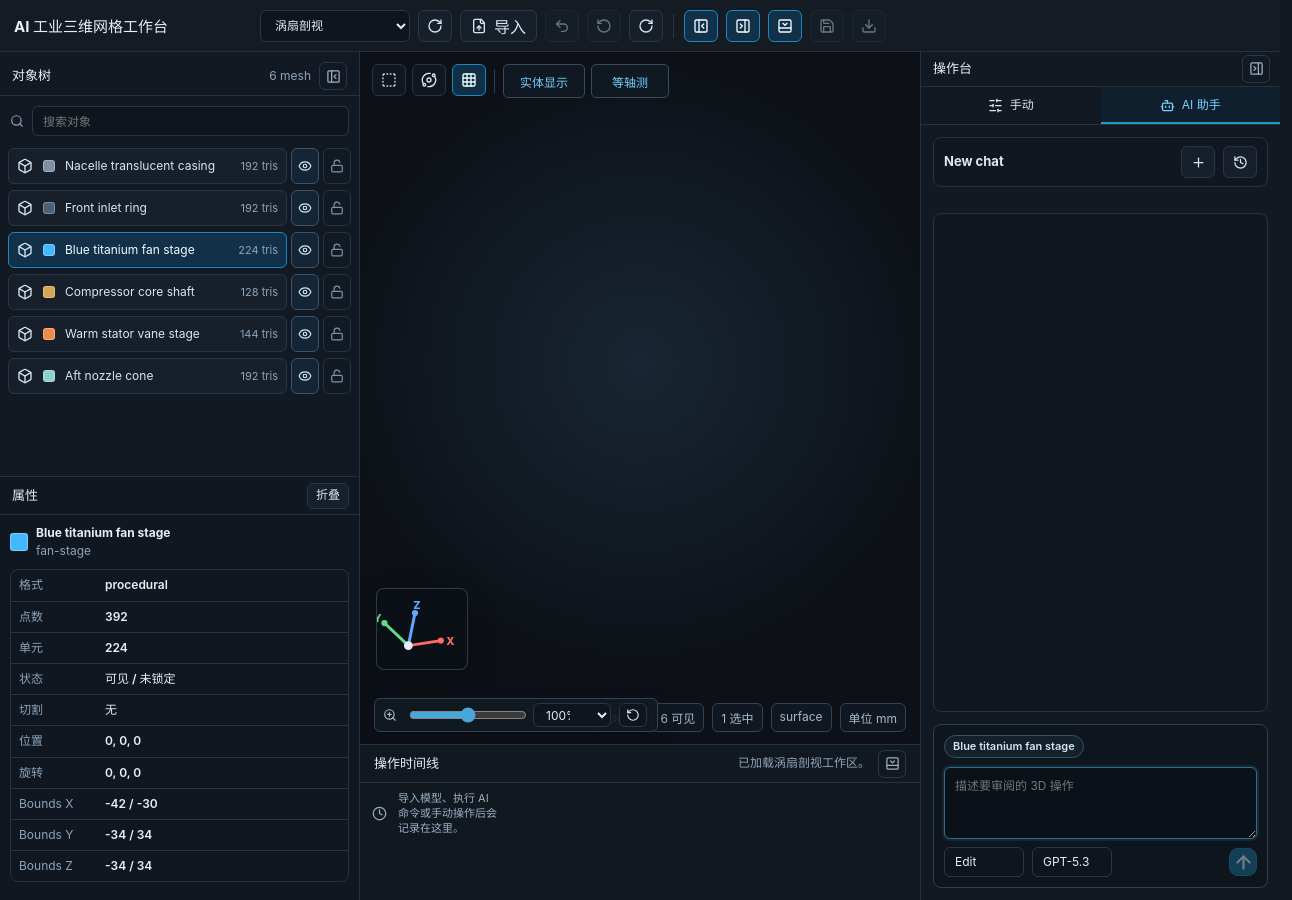
App agent draft previews › previews agent rotate drafts in the viewer before confirmation
Type "把当前对象绕 Z 轴旋转 90 度" into the text box named "AI 指令输入" at (1100, 803), box top-left (944, 767), bottom-right (1257, 839)
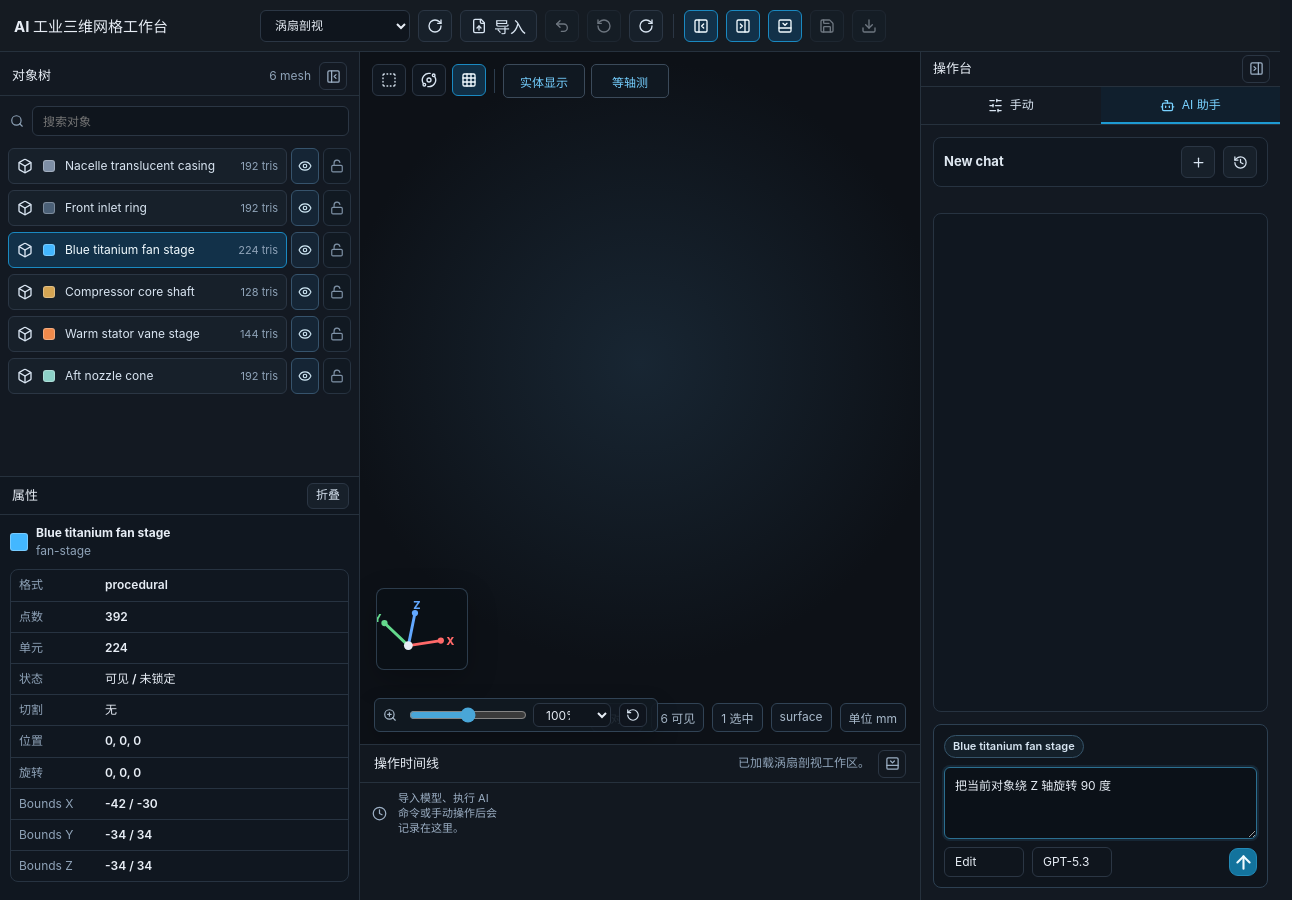
Click the button named "发送指令" at (1243, 862), box top-left (1229, 848), bottom-right (1257, 876)
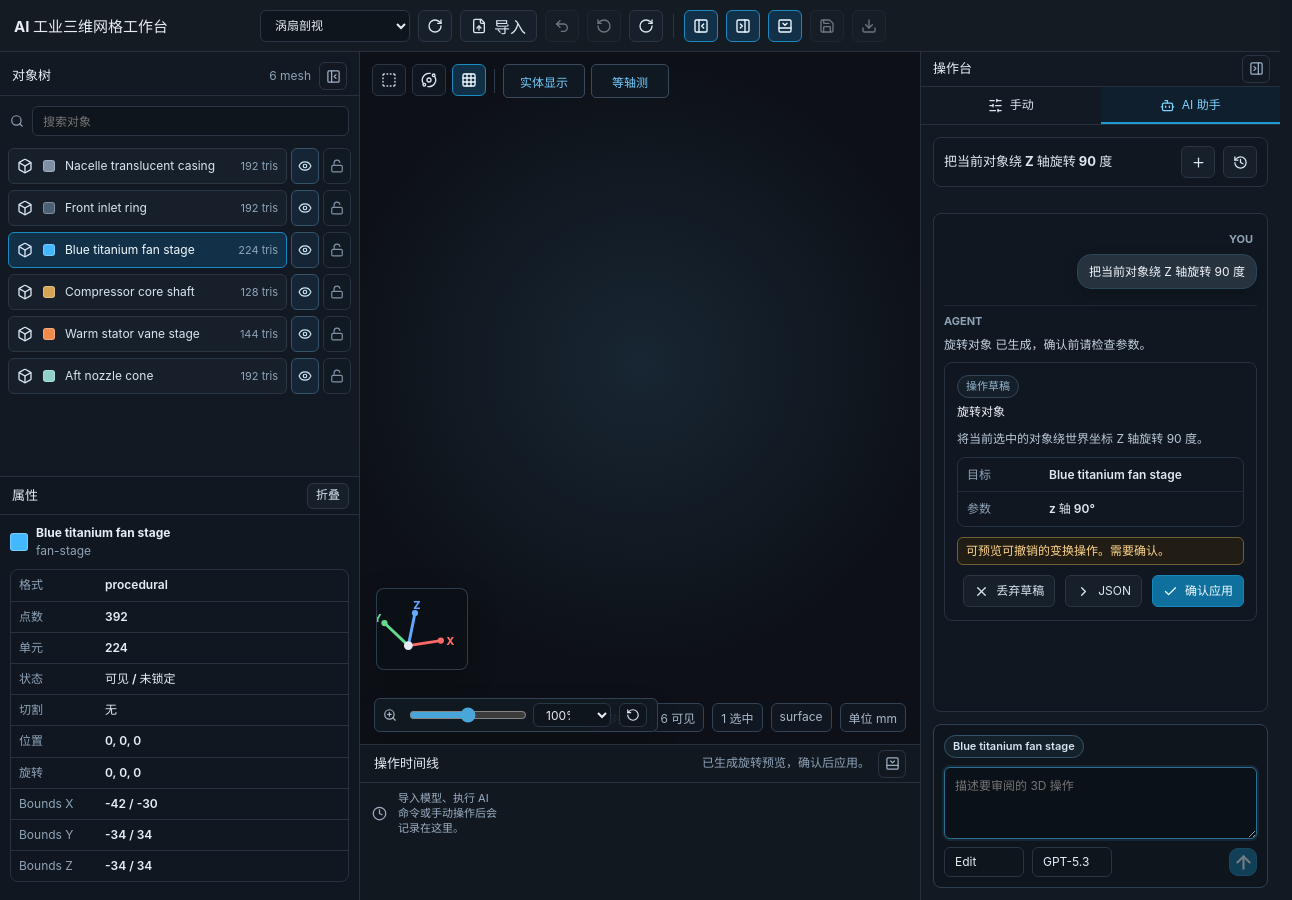
Now the button "确认应用" is shown
Click the button "确认应用" at (1198, 591), box top-left (1152, 575), bottom-right (1244, 607)
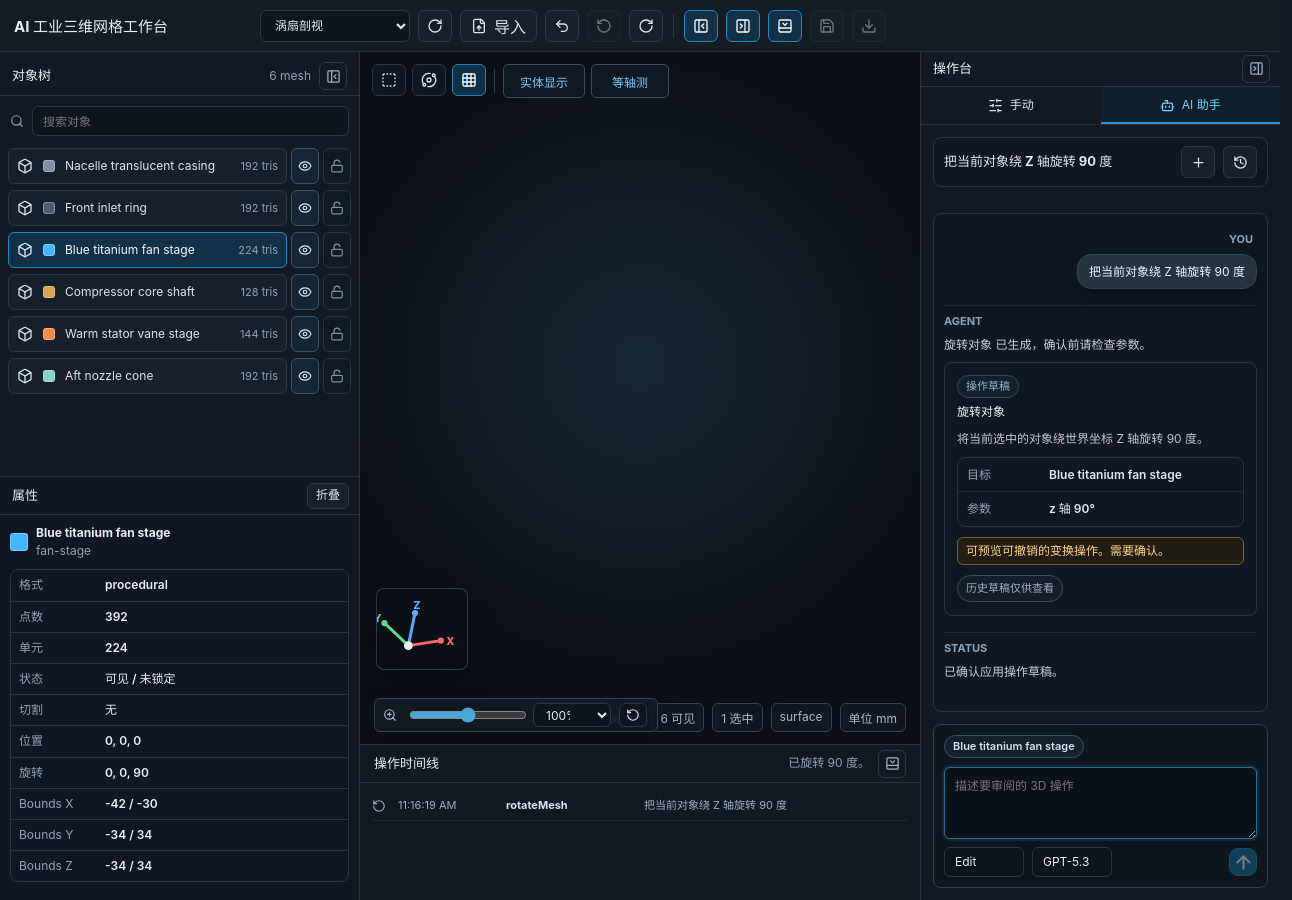
Now the text "rotateMesh" is shown, box top-left (506, 798), bottom-right (568, 812)
Now the text "把当前对象绕 Z 轴旋转 90 度" next to "rotateMesh" is shown, box top-left (644, 798), bottom-right (787, 812)
